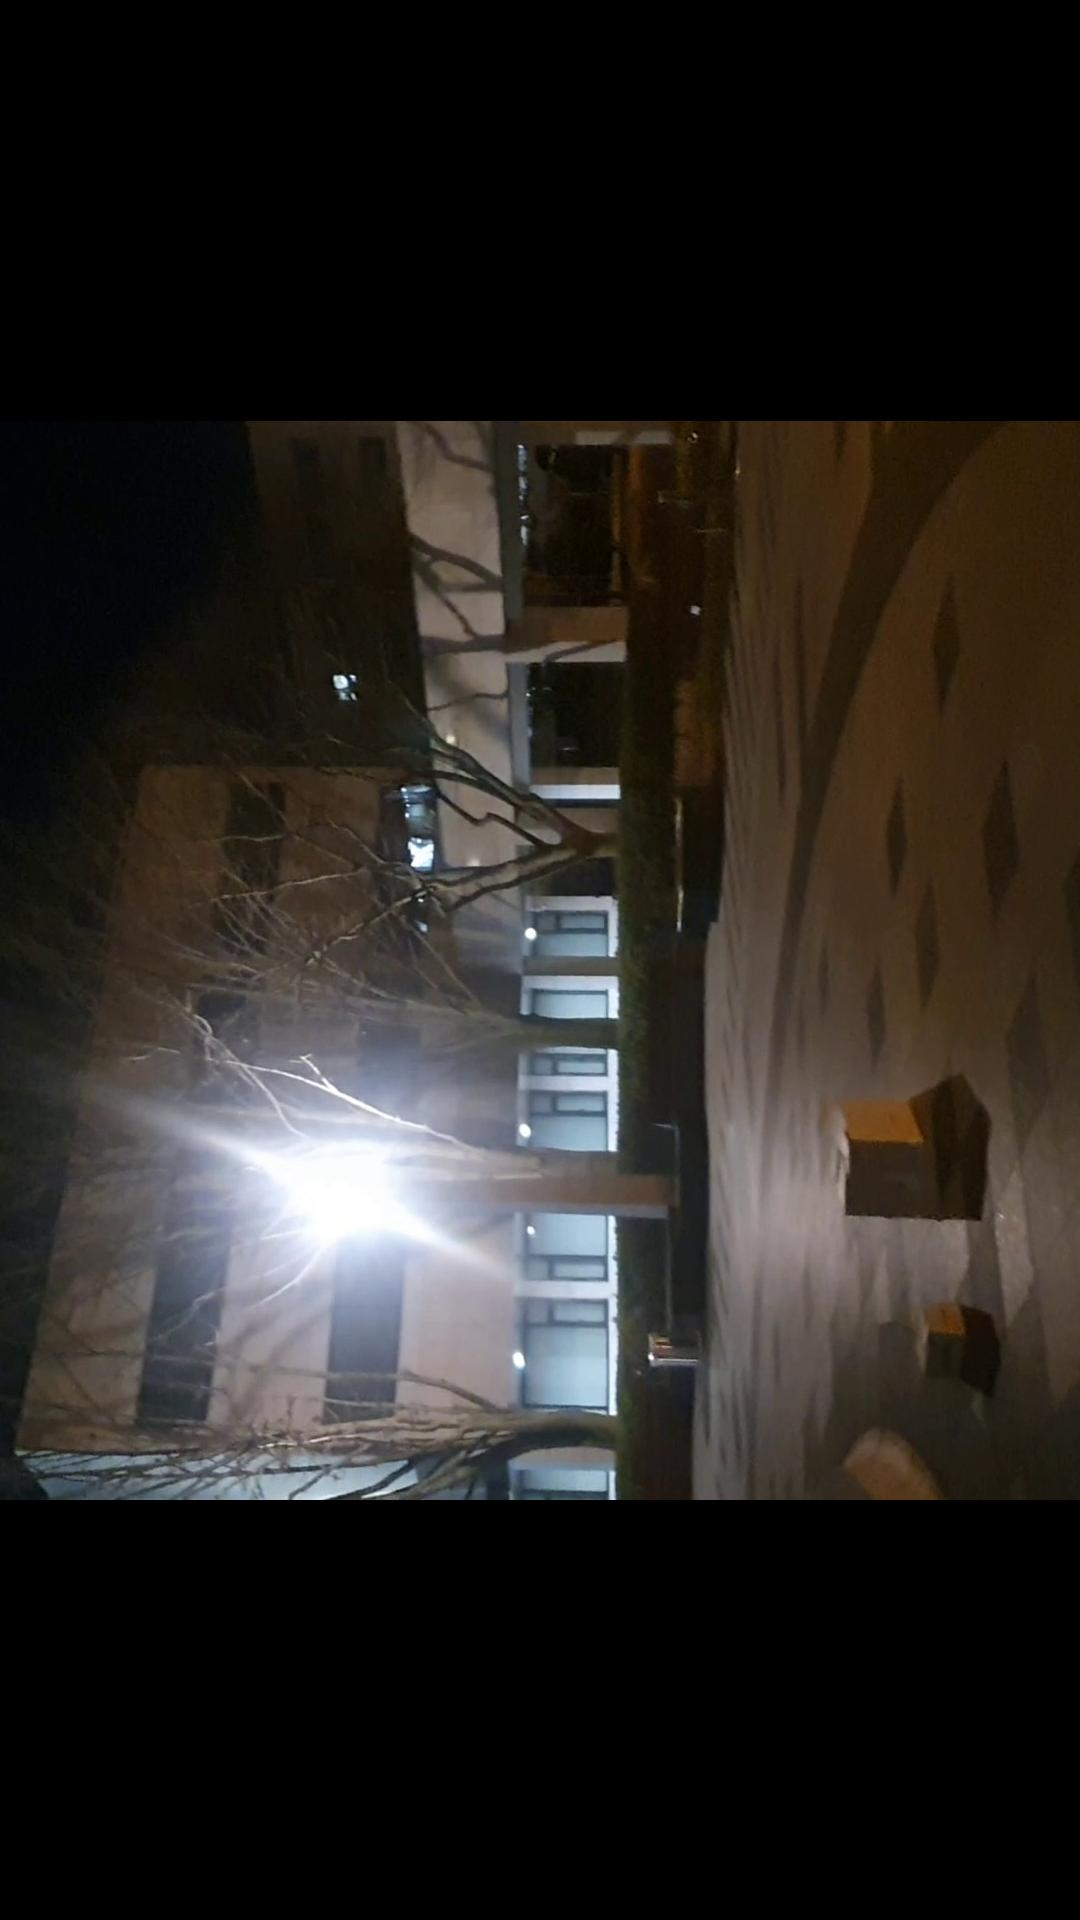Box: (820, 1072, 955, 1229), (898, 1295, 982, 1408)
